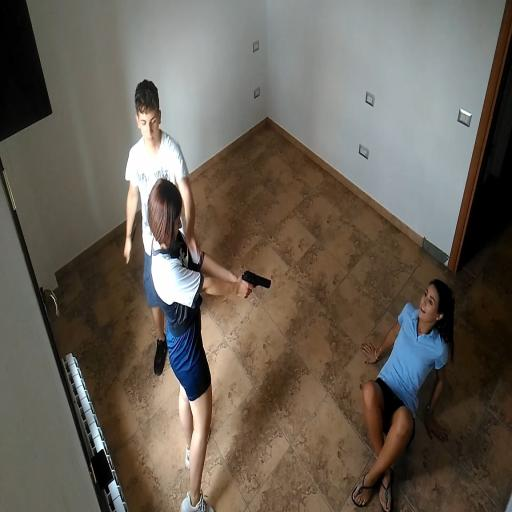violencia: (136, 164, 478, 512)
